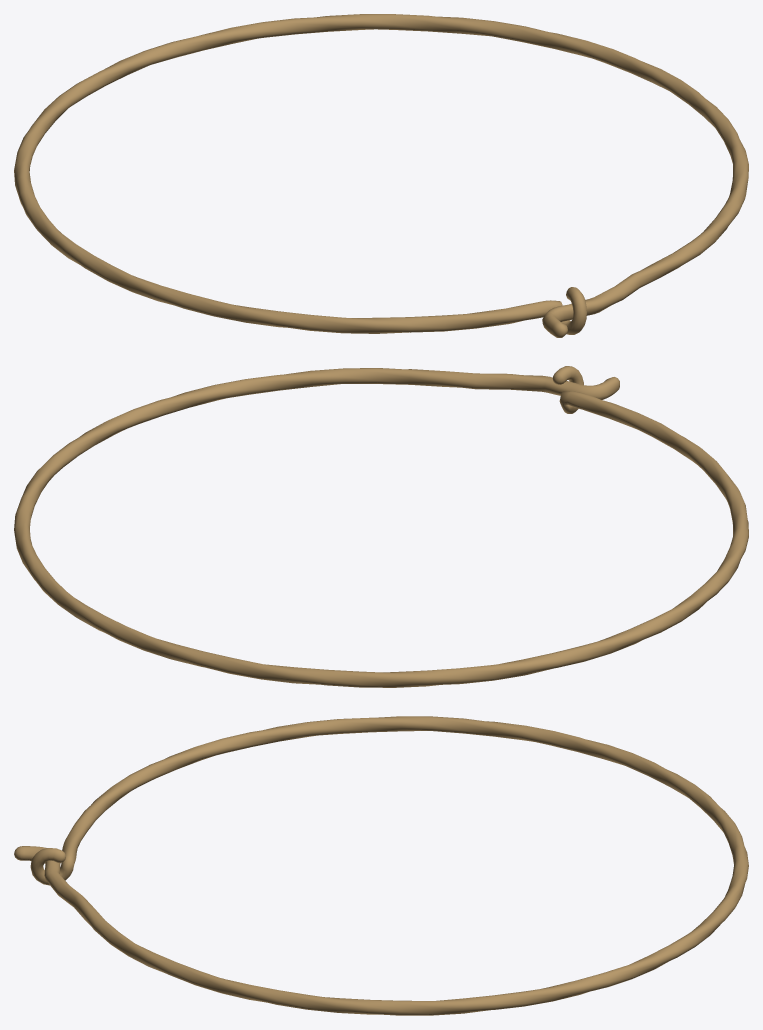
Rendered from w_pj_loop.glb.
3 renders of one model, top to bottom at view 1: azimuth 30°, elevation 25°; view 2: azimuth 150°, elevation 25°; view 3: azimuth 270°, elevation 25°, orthographic. The views are drawn at different scales.
Visible parts, largest first — view 1: loop_wzA; view 2: loop_wzA; view 3: loop_wzA.
Part boxes in pixels (left/top/right/bottom): loop_wzA: left=14, top=14, right=748, bottom=337; loop_wzA: left=14, top=366, right=748, bottom=687; loop_wzA: left=14, top=716, right=748, bottom=1015.
Size of the model in its own units: 1.1 by 0.07 by 1.17.
